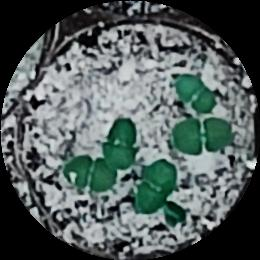Basil: (172, 116, 231, 154), (65, 156, 118, 194), (139, 159, 173, 211), (106, 119, 139, 167), (175, 74, 216, 112)
